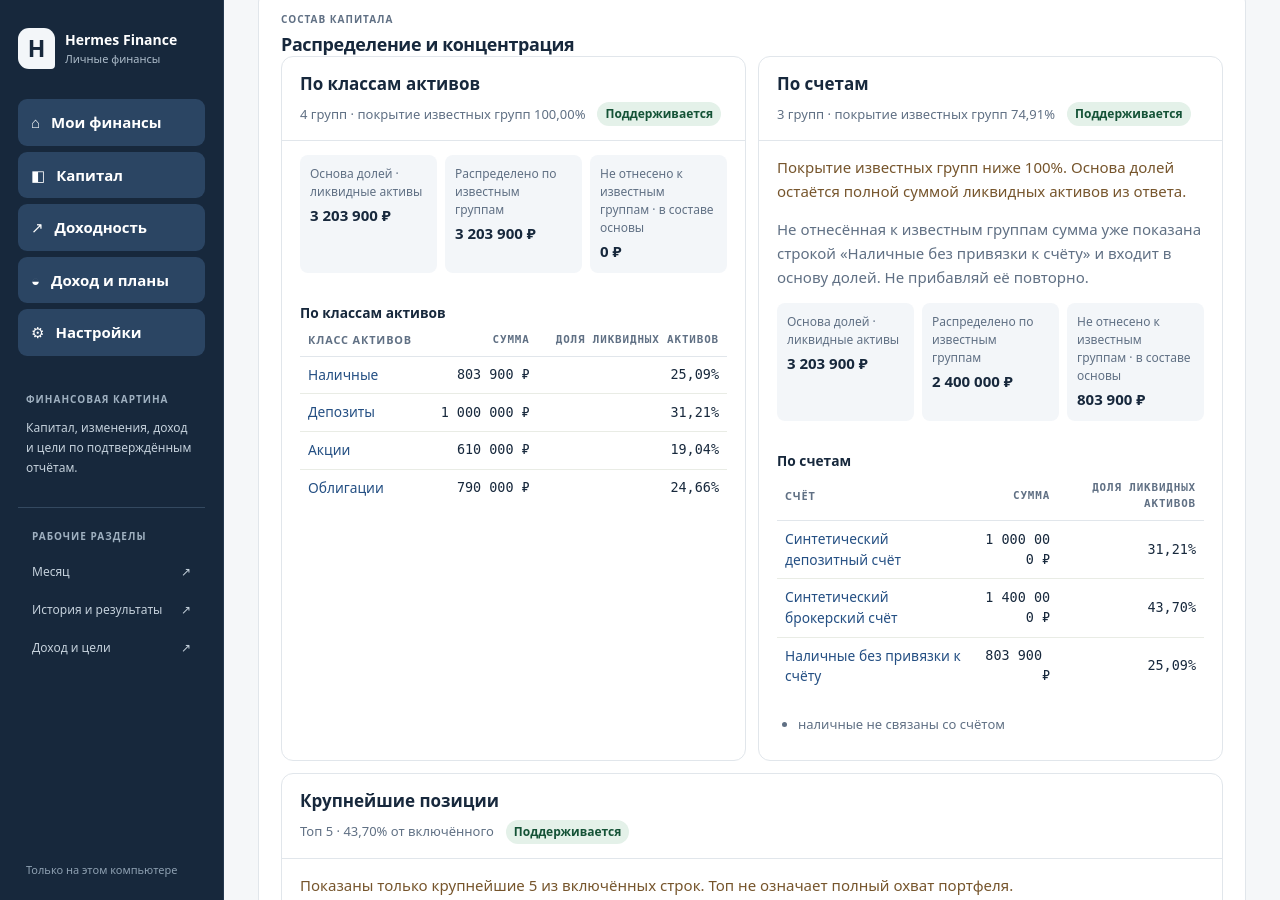
Test: filters the holdings by a class row and an account bucket as presentation only
(page scrolled)
Click the button "Акции": (329,450) [308,440,350,461]
(page scrolled)
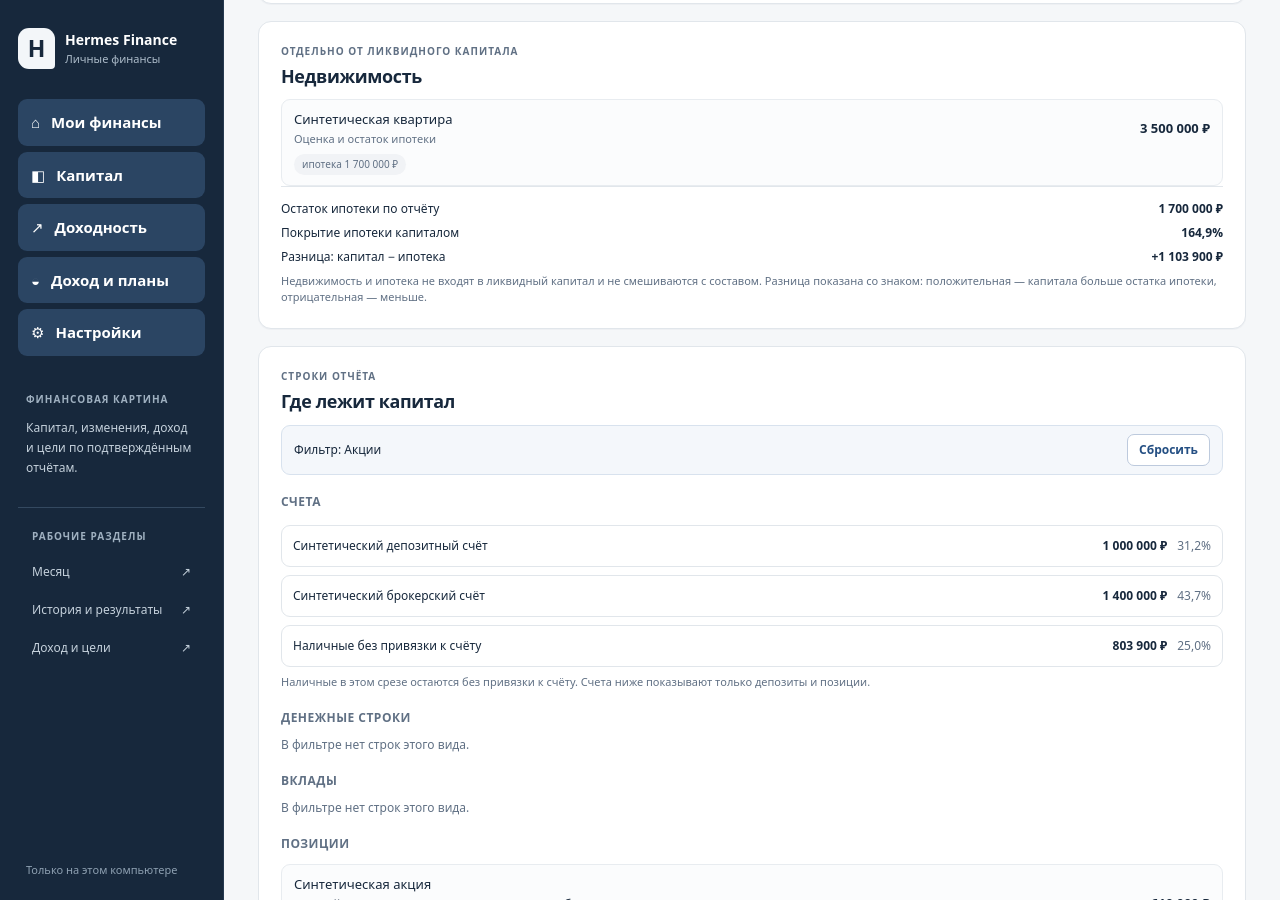
Expected: the text "Фильтр: Акции" is shown, [294,441,381,459]
Click the button "Сбросить": (1168,450) [1127,434,1210,466]
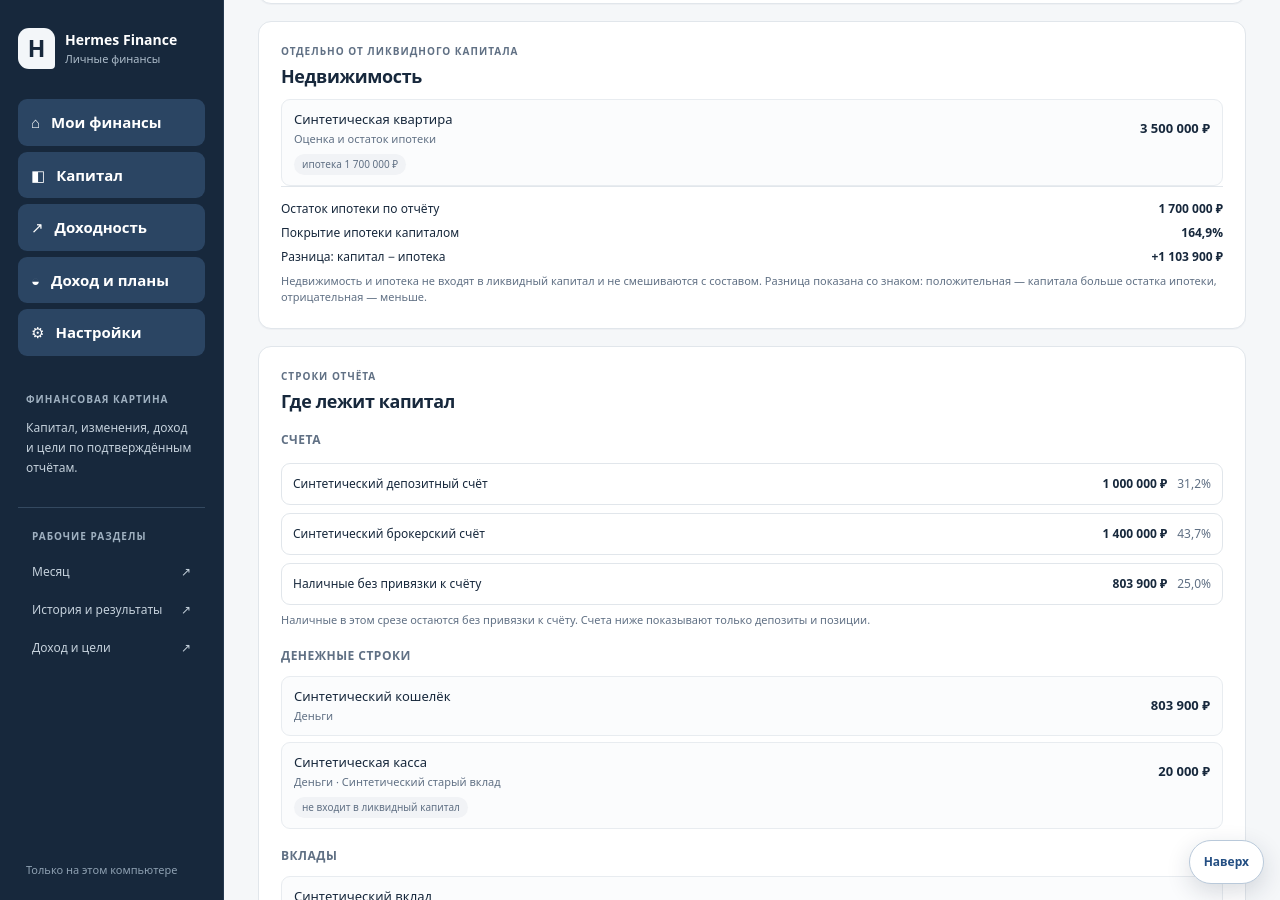
Expected: the text "Фильтр: Акции" is gone
Click the button with test id "capital-bucket-account:3": (389,534) [281,513,1223,555]
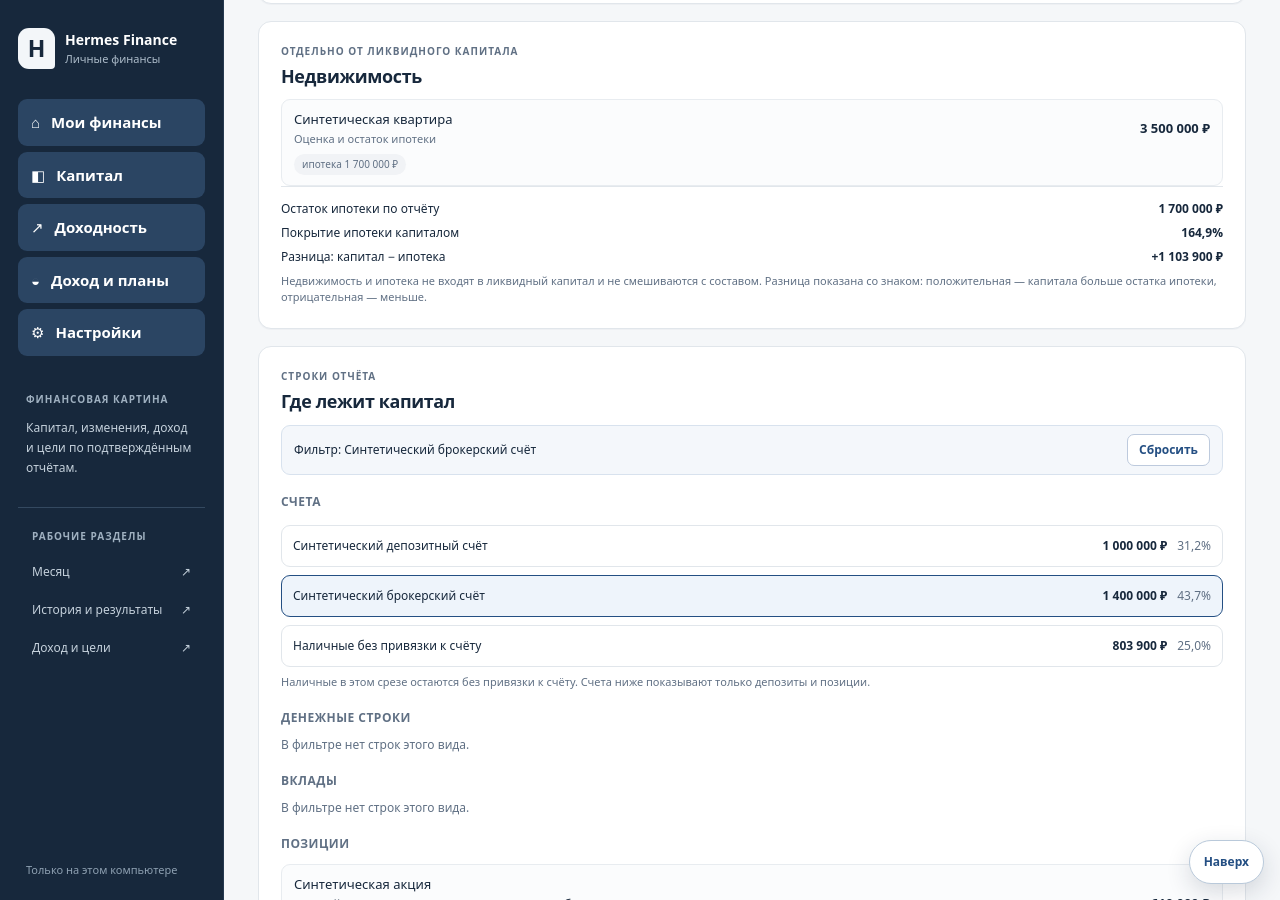
Expected: the text "Фильтр: Синтетический брокерский счёт" is shown, [294,441,536,459]
Expected: the list item with test id "capital-holding-cash-701" is gone
Click the button with test id "capital-bucket-account:1": (390,546) [281,525,1223,567]
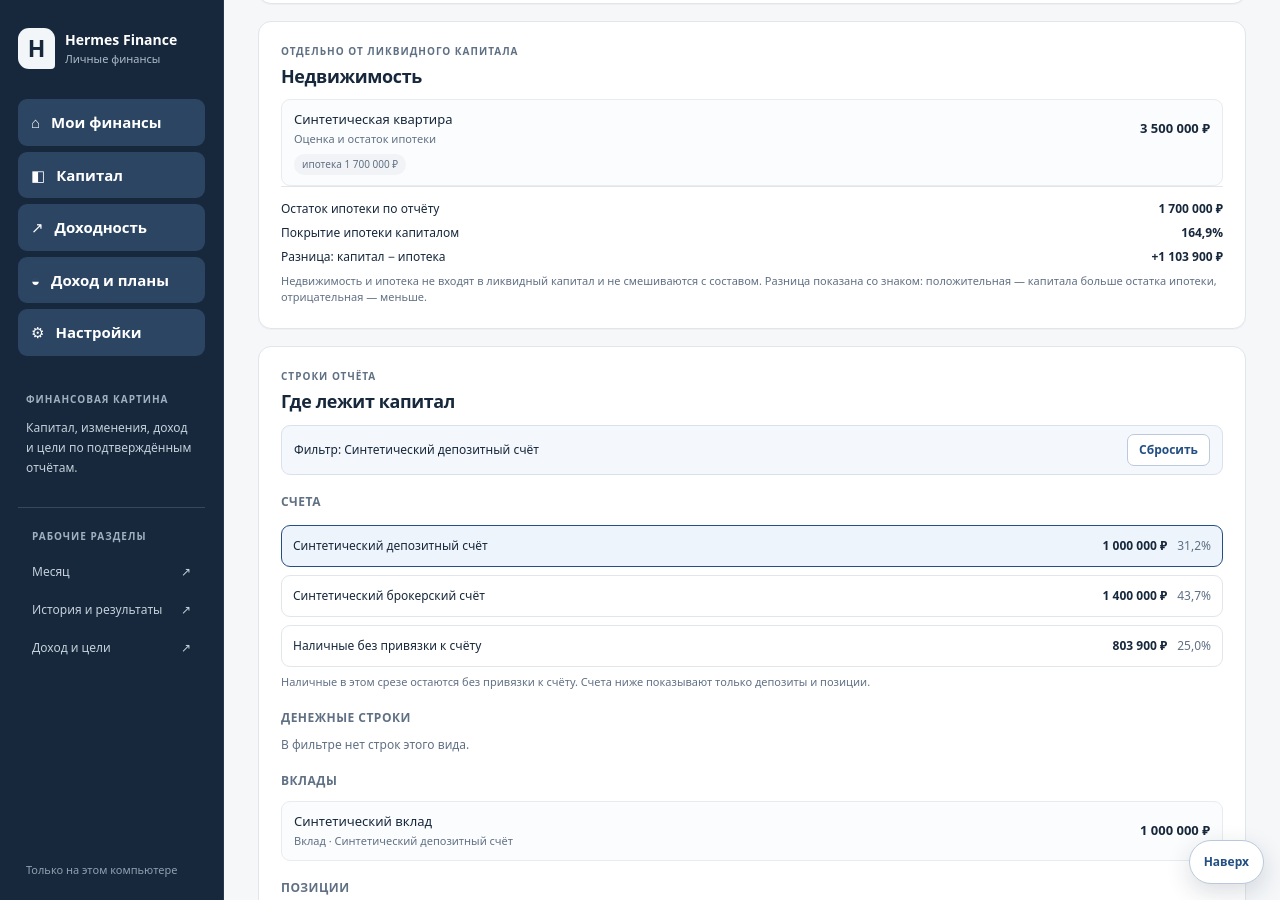
Expected: the list item with test id "capital-holding-deposit-601" is shown, [281,801,1223,861]
